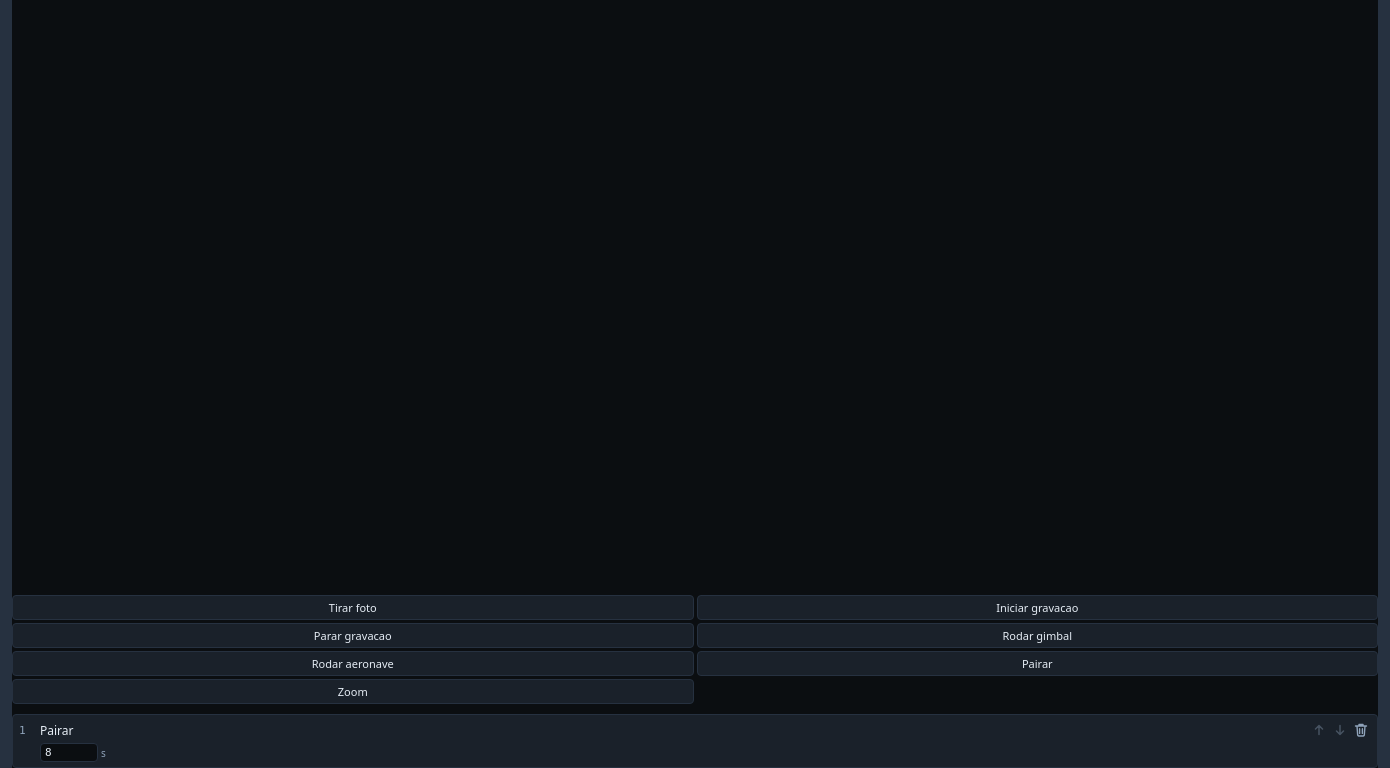
parametros das accoes › o campo volta ao ultimo valor bom quando se sai dele a meio
(page scrolled)
Clear the number field at (69, 752), box [40,743,98,762]
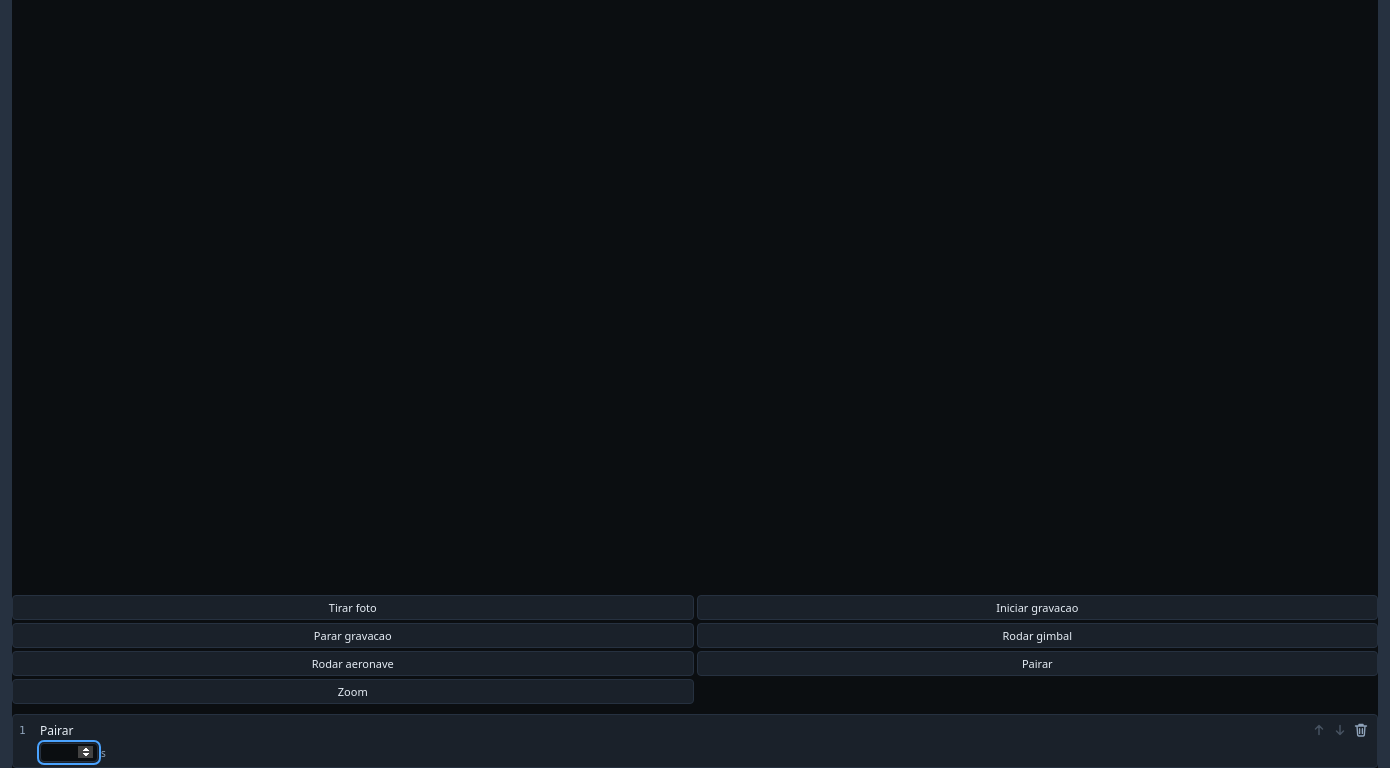
Press Tab
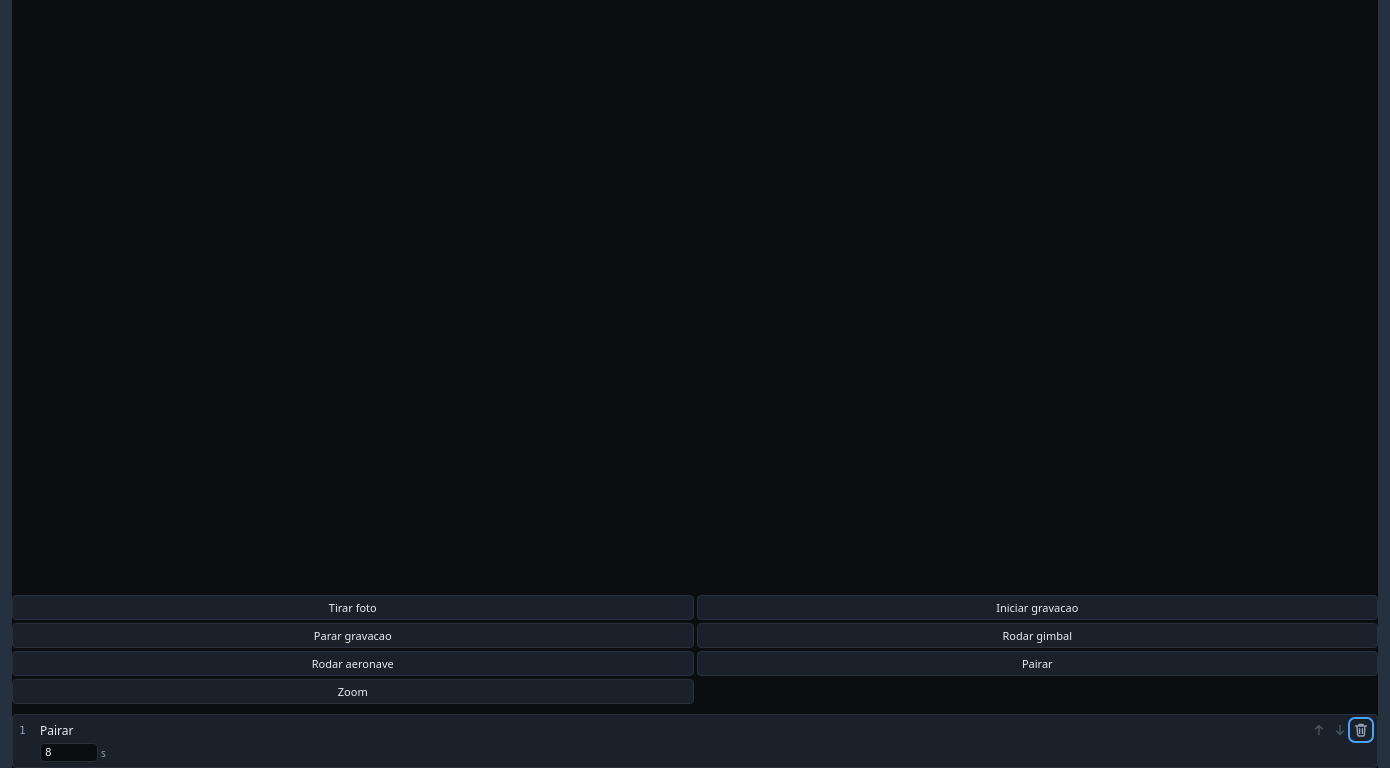
Expected: the number field holds "8", [40,743,98,762]
